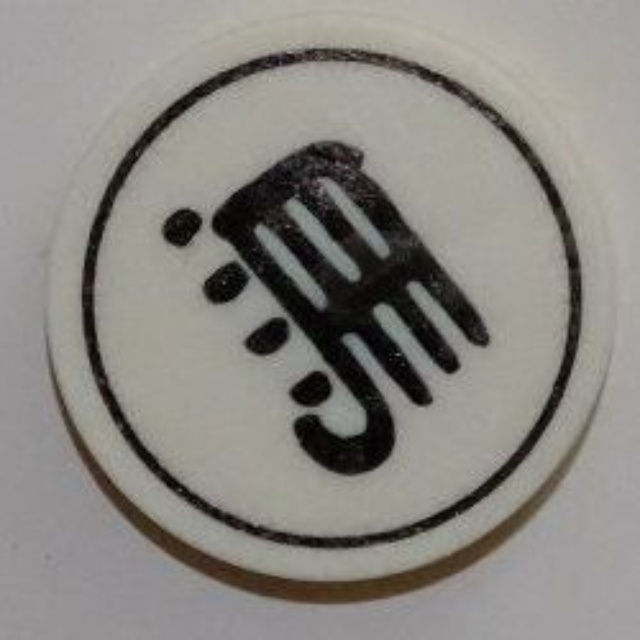black_ma: (42, 10, 627, 592)
